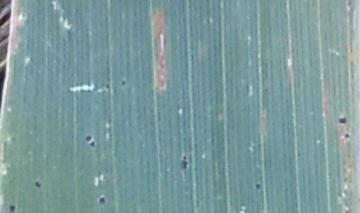tarspot: (179, 153, 191, 172), (84, 134, 97, 148), (96, 194, 107, 208), (336, 114, 348, 126), (7, 204, 18, 213), (254, 182, 263, 191), (34, 179, 42, 189), (119, 78, 127, 87), (343, 132, 352, 140), (105, 81, 111, 91), (342, 176, 349, 184)
